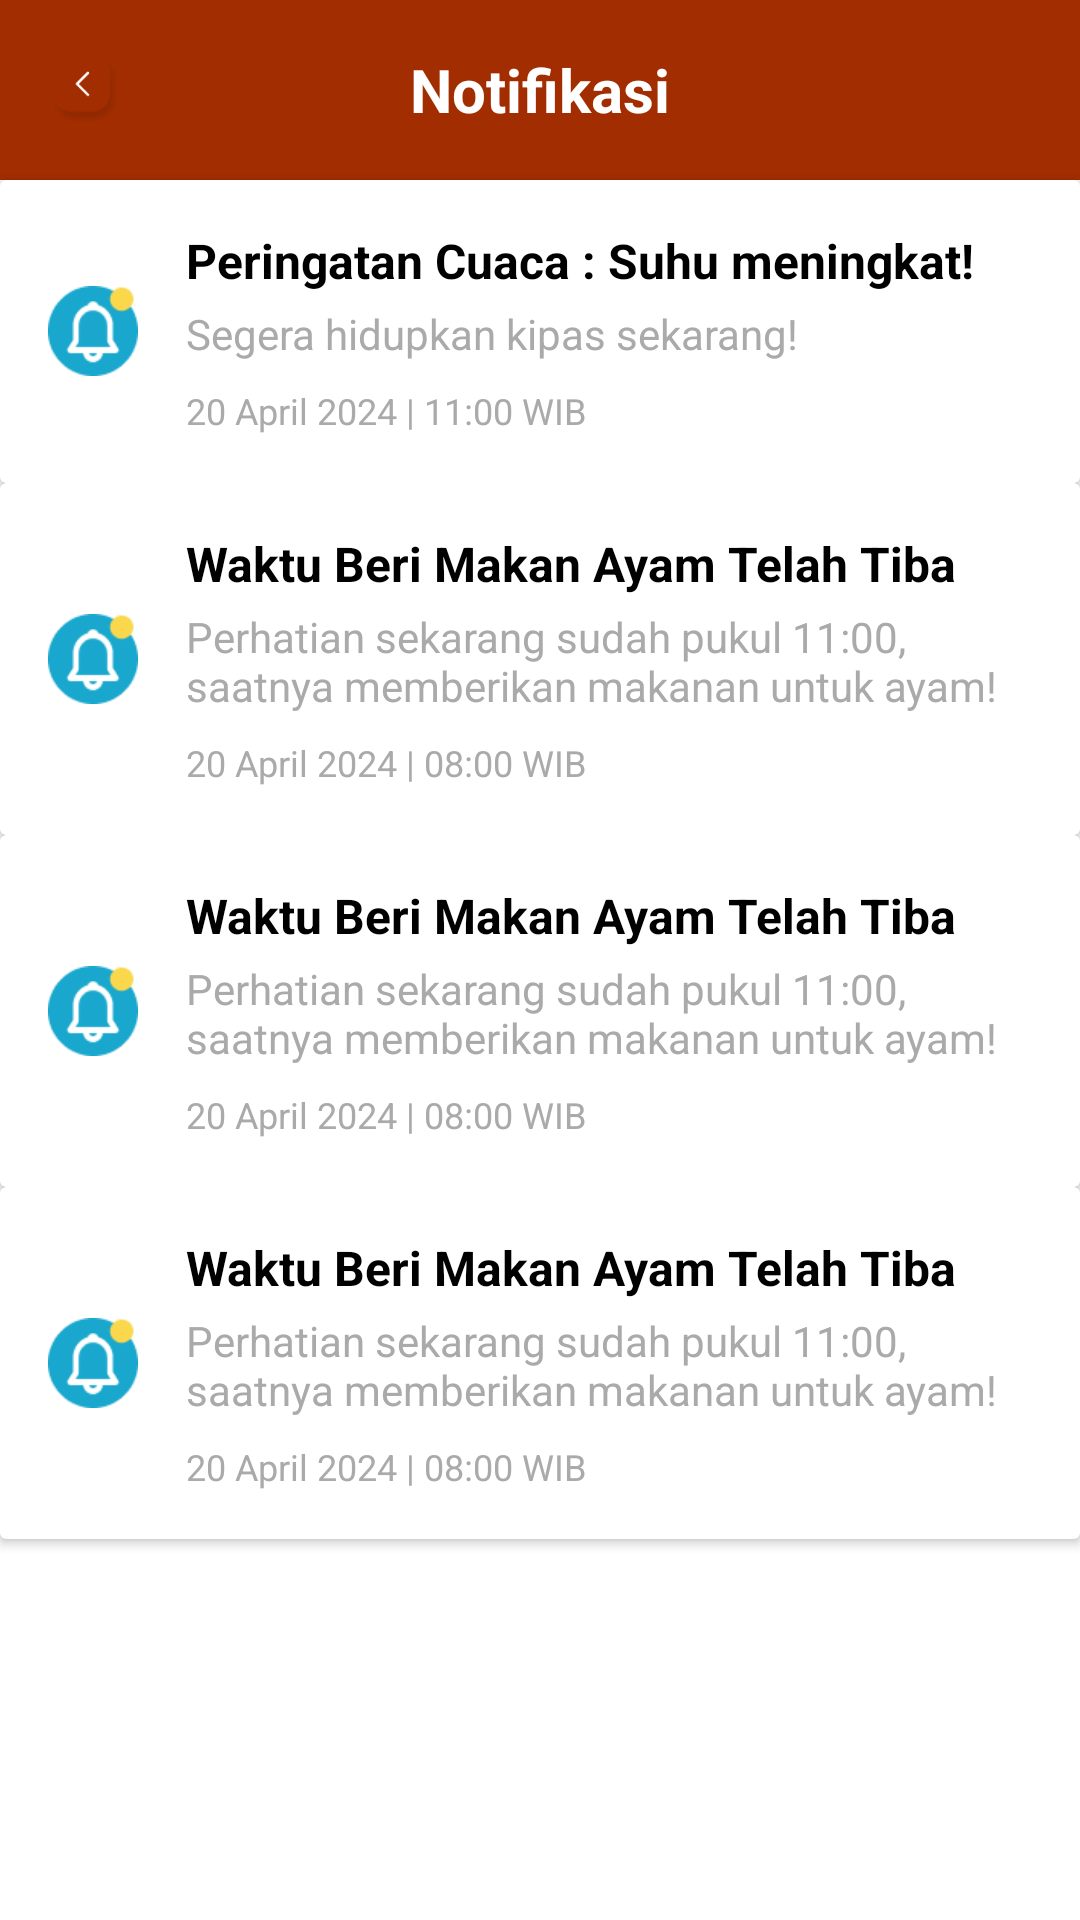

Where icons sit on this 1080 x 1920 app screen, as [x1=x1, y1=y1, x2=x2, y2=y2]:
back: [x1=75, y1=71, x2=90, y2=97]
notif: [x1=48, y1=286, x2=138, y2=376], [x1=48, y1=614, x2=138, y2=704], [x1=48, y1=966, x2=138, y2=1056], [x1=48, y1=1318, x2=138, y2=1408]
